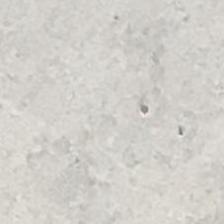Non_Crack: (32, 25, 134, 198)
